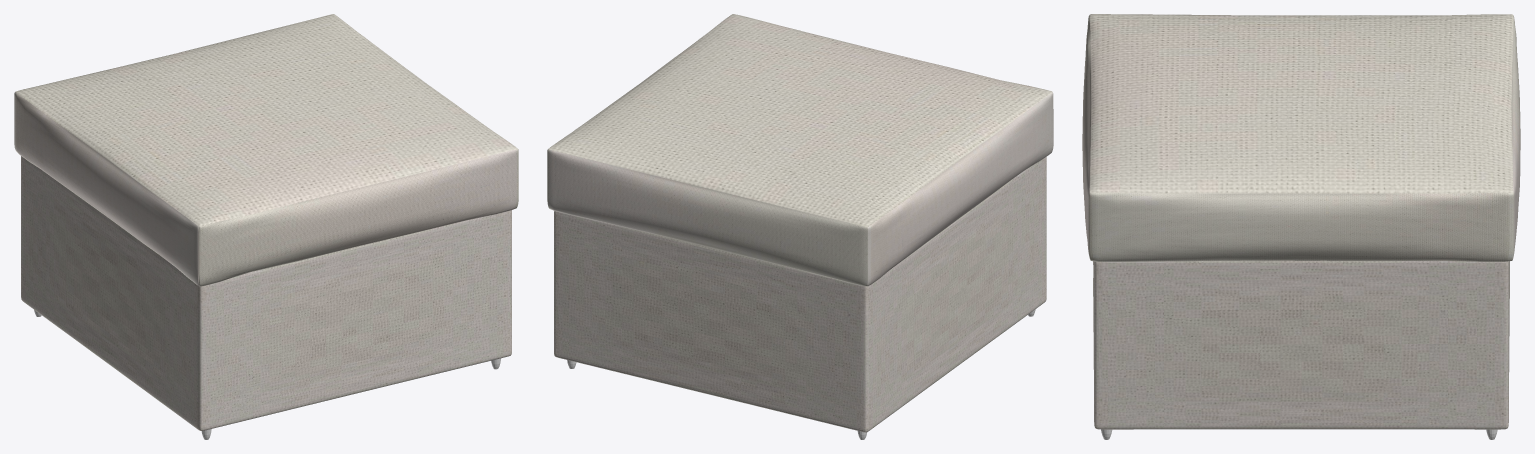
Rendered from tabureteCasual.gltf.
The picture shows the model from 3 angles, left to right: view 1: azimuth 30°, elevation 25°; view 2: azimuth 150°, elevation 25°; view 3: azimuth 270°, elevation 25°; orthographic projection. The views are drawn at different scales.
Visible parts, largest first — view 1: asiento, base; view 2: asiento, base; view 3: asiento, base.
Part boxes in pixels (<box>): asiento: <box>14,14,518,286</box>; base: <box>21,156,511,430</box>; asiento: <box>547,14,1053,286</box>; base: <box>554,157,1046,432</box>; asiento: <box>1082,14,1520,261</box>; base: <box>1093,260,1509,429</box>.
Size of the model in its own units: 4.97 by 3.33 by 4.97.
Materials: 3 (2 with a texture image).
